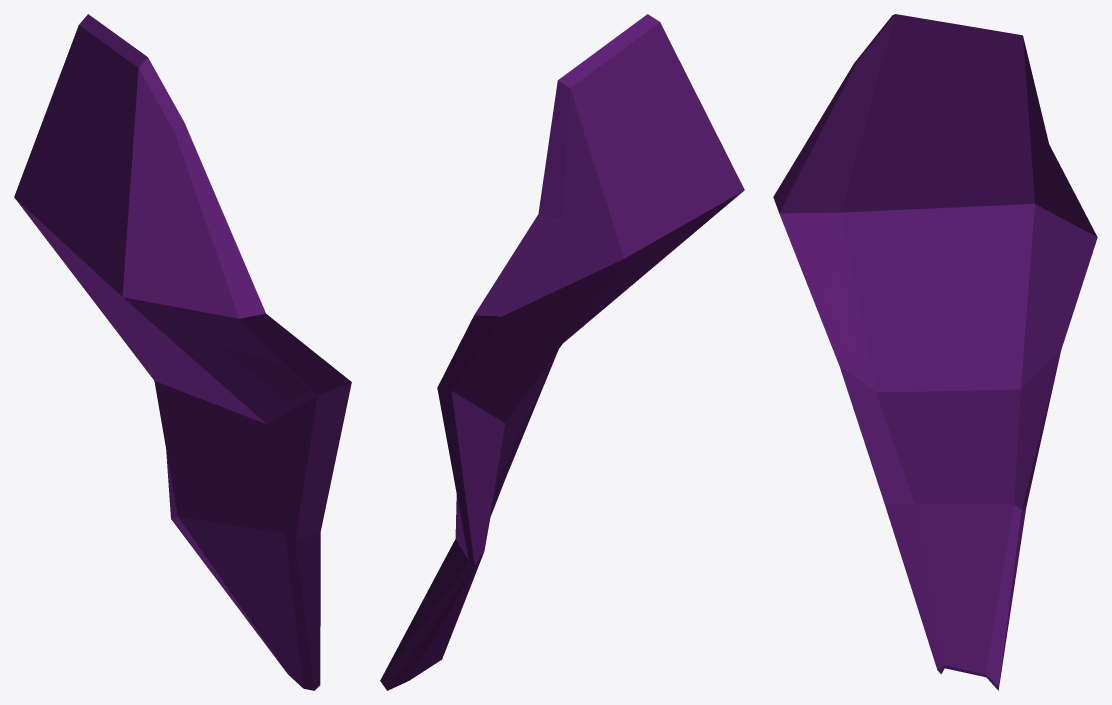
File: Back_Standard.fbx
The picture shows the model from 3 angles, left to right: view 1: azimuth 30°, elevation 25°; view 2: azimuth 150°, elevation 25°; view 3: azimuth 270°, elevation 25°; orthographic projection. The views are drawn at different scales.
Visible parts, largest first — view 1: Stamdard.001; view 2: Stamdard.001; view 3: Stamdard.001.
Part boxes in pixels (<box>): Stamdard.001: <box>14,14,351,690</box>; Stamdard.001: <box>380,14,744,690</box>; Stamdard.001: <box>773,14,1097,690</box>.
Bounding box in the file's own units: 205 × 498 × 247.
